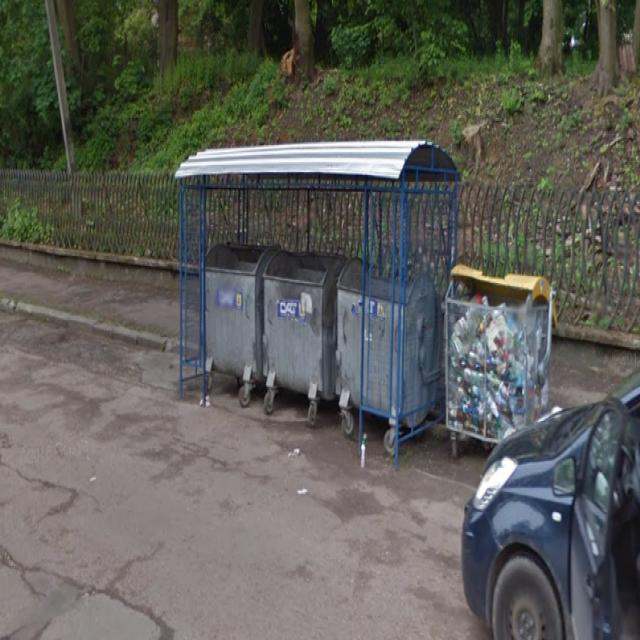general wastetrash bin: (333, 232, 436, 464), (262, 228, 335, 444), (199, 227, 261, 419)
plastic trash bin: (440, 248, 560, 484)
